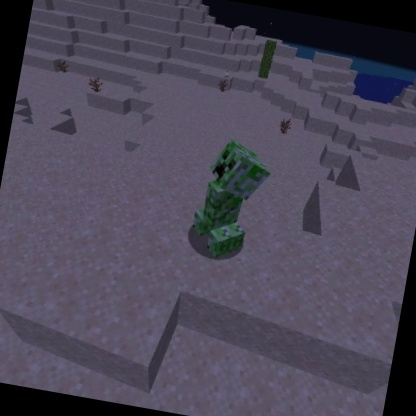creeper: (184, 131, 279, 269)
